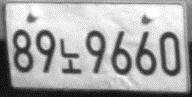0: (159, 31, 181, 76)
6: (111, 31, 132, 75), (135, 31, 156, 75)
8: (11, 29, 33, 72)
9: (84, 30, 106, 74), (35, 29, 55, 73)
노: (58, 37, 83, 74)
